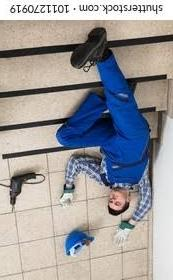fall: (47, 27, 157, 251)
